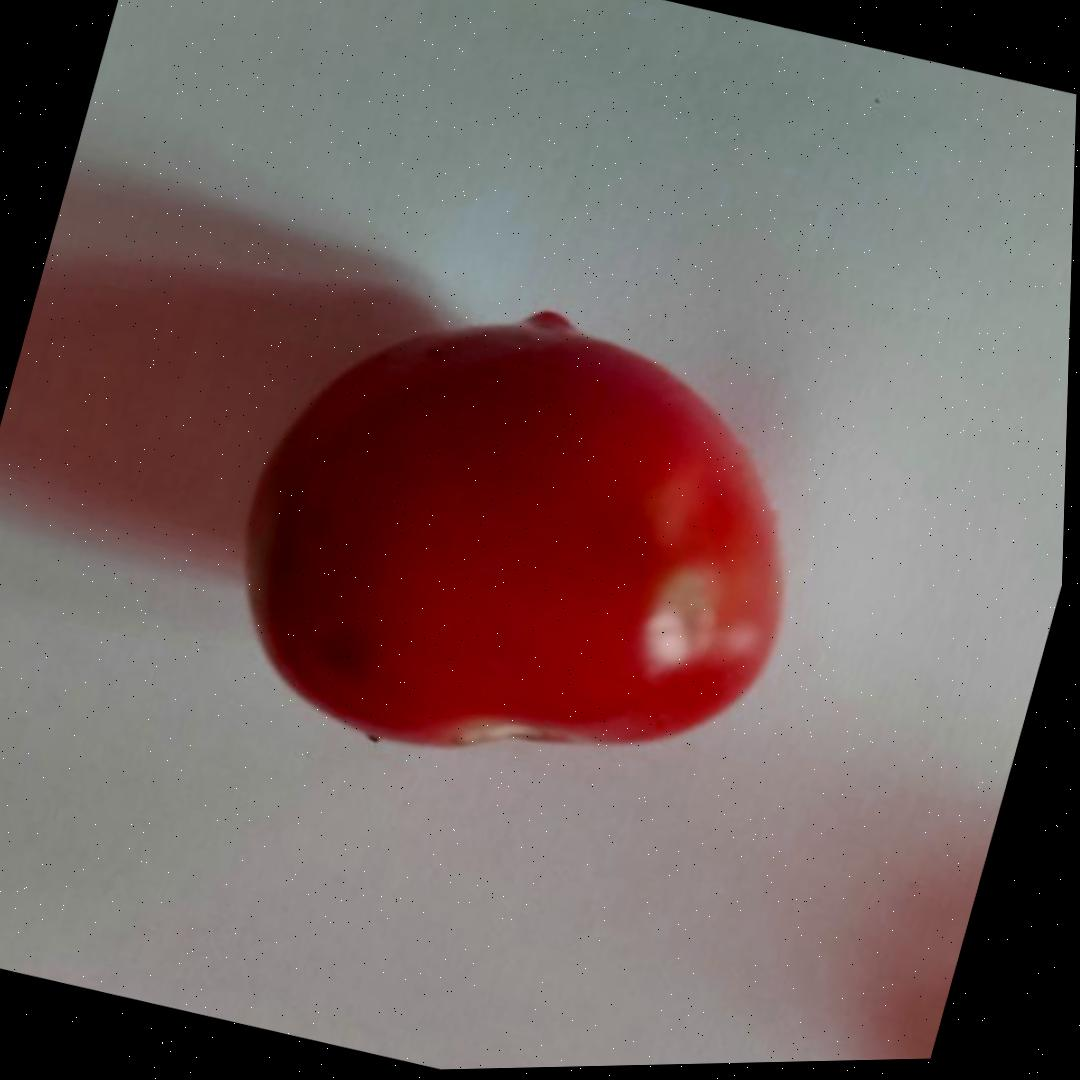matang: (189, 243, 859, 838)
